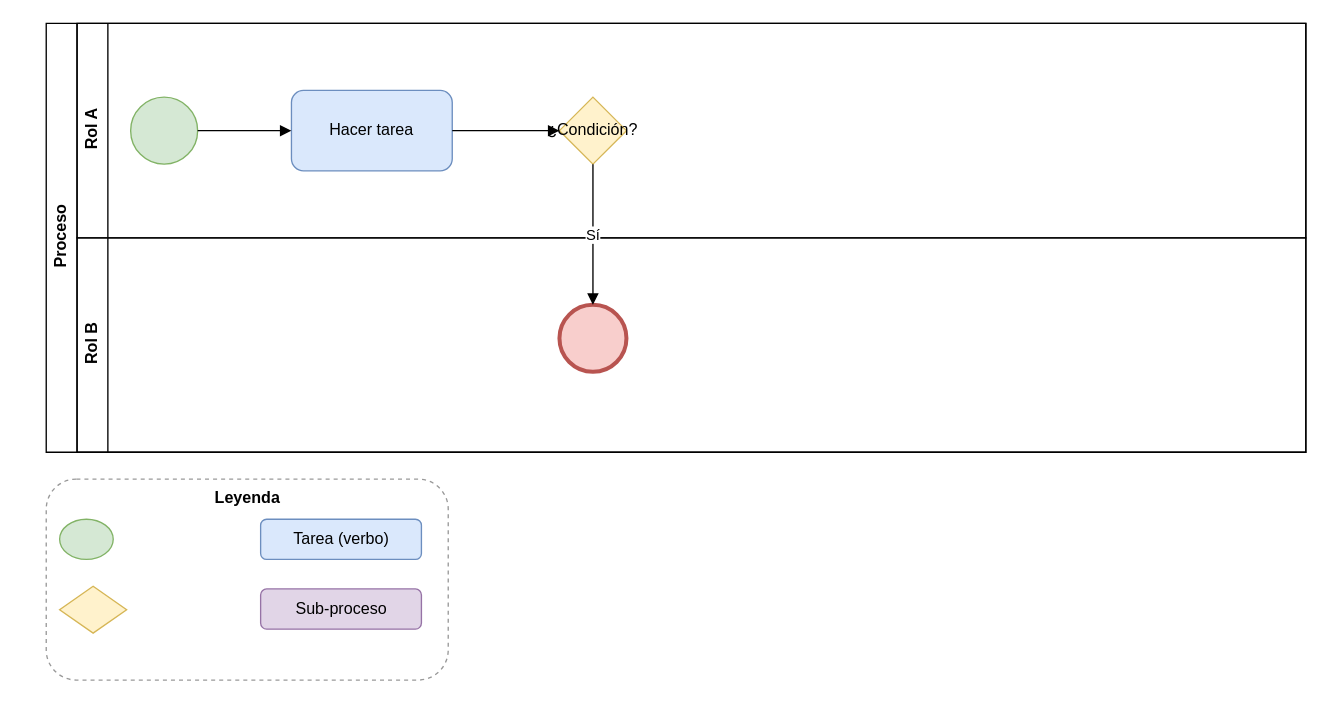
This 1329x704 diagram has some shape labels left out. The shapes that lost their labels are listed below. From the top down, each one's centre as x and y in pixels, then its label:
At point (163, 130): "Inicio".
At point (592, 337): "Fin".
At point (85, 538): "Inicio/Fin (evento)".
At point (92, 609): "Decisión".
